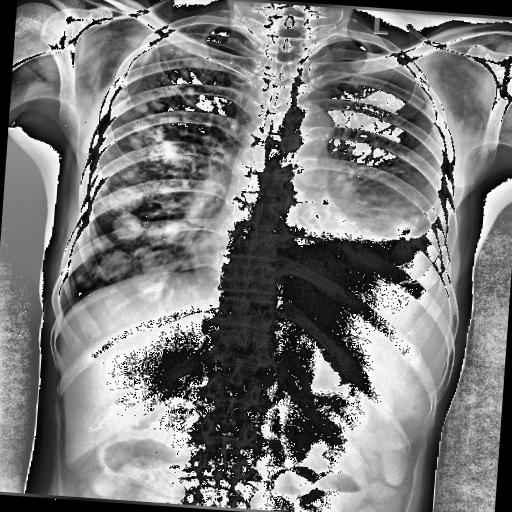10- Pleural effusion: (322, 184, 462, 330), (300, 202, 449, 306), (329, 211, 445, 329)
13- Pulmonary fibrosis: (420, 191, 440, 219)
6- Infiltration: (132, 128, 220, 224)
7- Lung Opacity: (132, 128, 220, 224), (324, 185, 440, 239), (352, 206, 430, 239), (348, 202, 420, 236)
8- Nodule-Mass: (66, 20, 244, 310), (122, 43, 212, 150), (104, 182, 145, 216), (92, 248, 134, 281), (140, 246, 178, 278), (138, 250, 178, 280), (106, 184, 144, 213), (108, 212, 146, 240), (96, 248, 128, 280), (146, 218, 180, 248), (111, 213, 145, 240), (148, 222, 177, 246), (180, 86, 202, 106), (125, 134, 145, 150), (133, 99, 150, 113), (72, 273, 90, 286), (125, 168, 137, 178), (190, 60, 204, 68), (180, 69, 191, 78)
